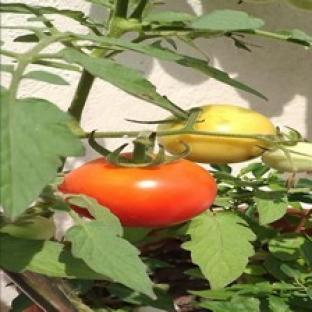Tomato: (60, 158, 217, 227), (159, 105, 275, 164), (262, 143, 311, 172), (23, 306, 43, 311)
